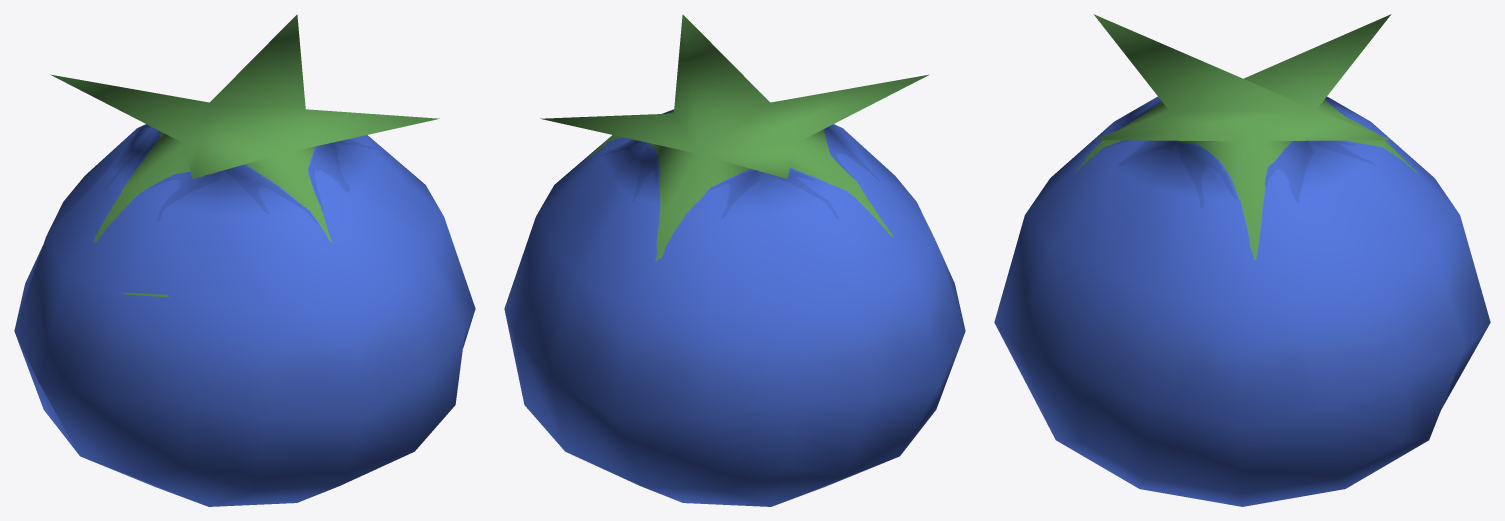
Rendered from berry.fbx.
3 renders of one model, left to right at view 1: azimuth 30°, elevation 25°; view 2: azimuth 150°, elevation 25°; view 3: azimuth 270°, elevation 25°, orthographic. The views are drawn at different scales.
Parts seen in each view (by area): view 1: Cube; view 2: Cube; view 3: Cube.
Part boxes in pixels (<box>): Cube: <box>14,14,475,506</box>; Cube: <box>504,14,965,506</box>; Cube: <box>994,14,1490,506</box>.
Bounding box in the file's own units: 0.1524 × 0.1359 × 0.1524.
